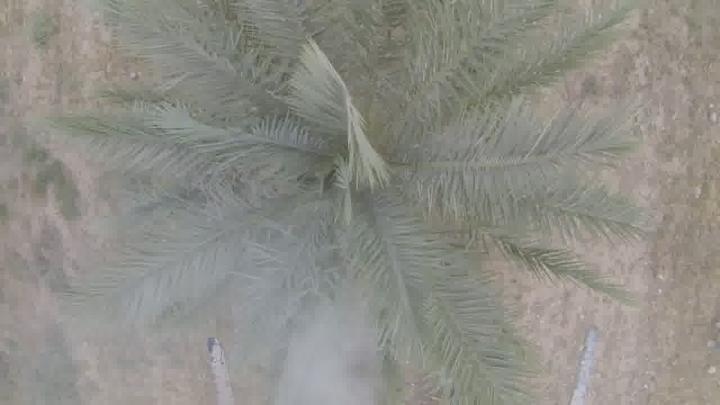Date-Palm-Crown: (181, 50, 475, 330)
